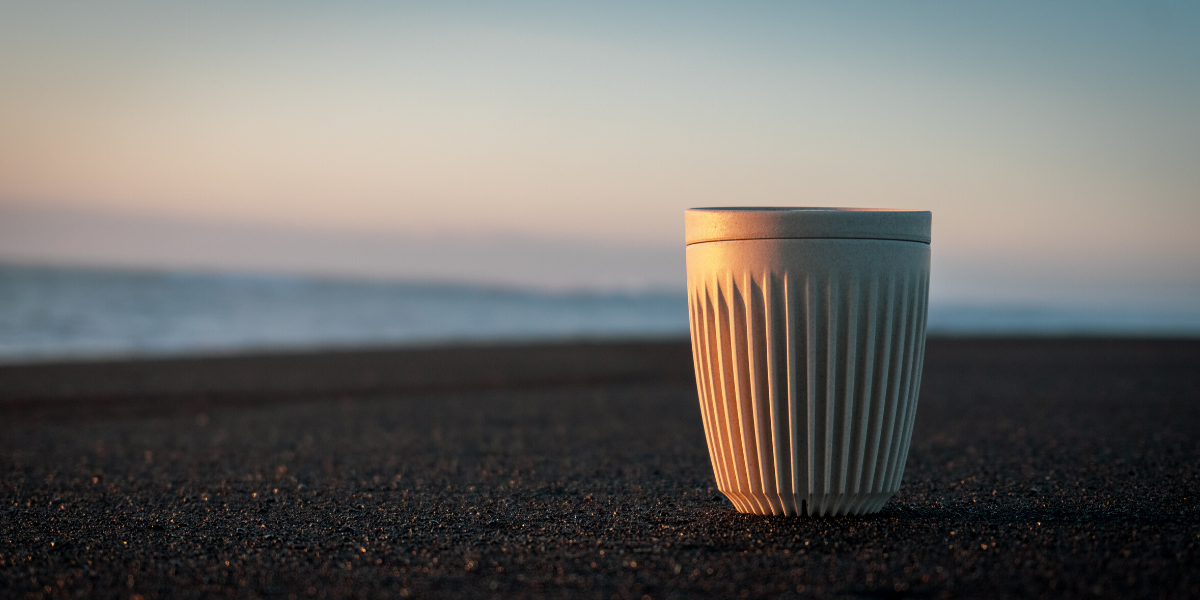cup: (679, 198, 937, 509)
